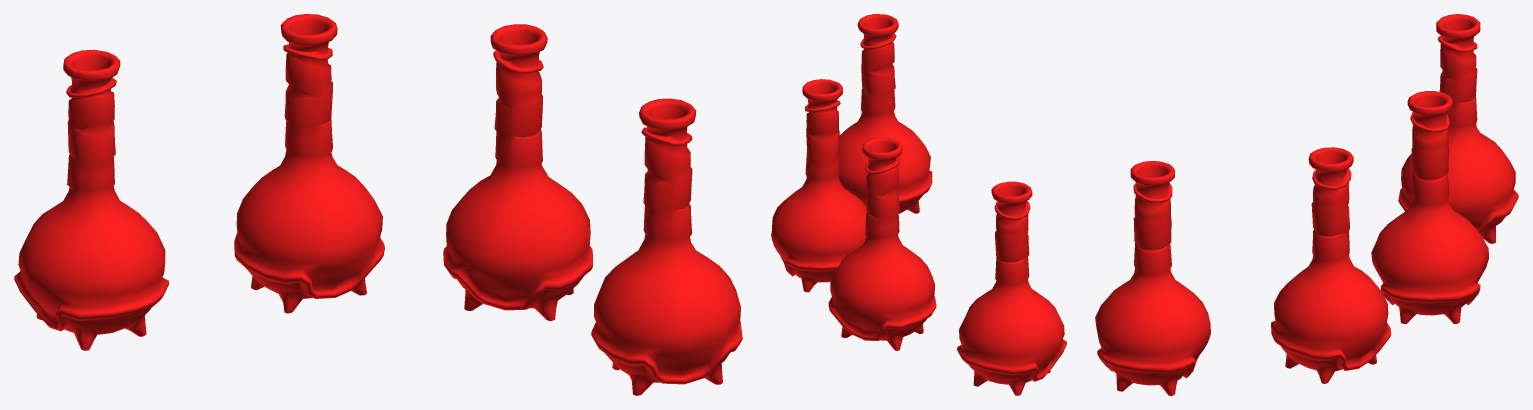
The model's file is Escena.obj.
The picture shows the model from 3 angles, left to right: view 1: azimuth 30°, elevation 25°; view 2: azimuth 150°, elevation 25°; view 3: azimuth 270°, elevation 25°; orthographic projection. The views are drawn at different scales.
Parts seen in each view (by area): view 1: group1 bottle_ncl1_3, group1 bottle_ncl1_1, group1 bottle_ncl1_2, group1 bottle; view 2: group1 bottle, group1 bottle_ncl1_2, group1 bottle_ncl1_1, group1 bottle_ncl1_3; view 3: group1 bottle_ncl1_1, group1 bottle_ncl1_3, group1 bottle, group1 bottle_ncl1_2.
Part boxes in pixels (x1,y1,x2,y2): group1 bottle_ncl1_3: [591, 98, 742, 395]; group1 bottle_ncl1_1: [443, 24, 592, 321]; group1 bottle_ncl1_2: [14, 49, 168, 350]; group1 bottle: [234, 14, 384, 313]; group1 bottle: [828, 137, 936, 350]; group1 bottle_ncl1_2: [957, 181, 1066, 395]; group1 bottle_ncl1_1: [771, 79, 866, 292]; group1 bottle_ncl1_3: [838, 14, 932, 213]; group1 bottle_ncl1_1: [1271, 147, 1391, 383]; group1 bottle_ncl1_3: [1095, 160, 1210, 395]; group1 bottle: [1371, 91, 1488, 323]; group1 bottle_ncl1_2: [1398, 14, 1518, 243].
Size of what is drawn, in the model's own units: 123 by 61.35 by 112.
